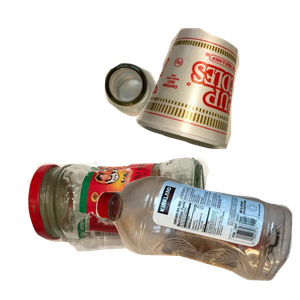glass: (25, 155, 227, 300)
metal: (102, 60, 252, 169)
plastic: (93, 173, 300, 300)
trash: (133, 25, 300, 167)
